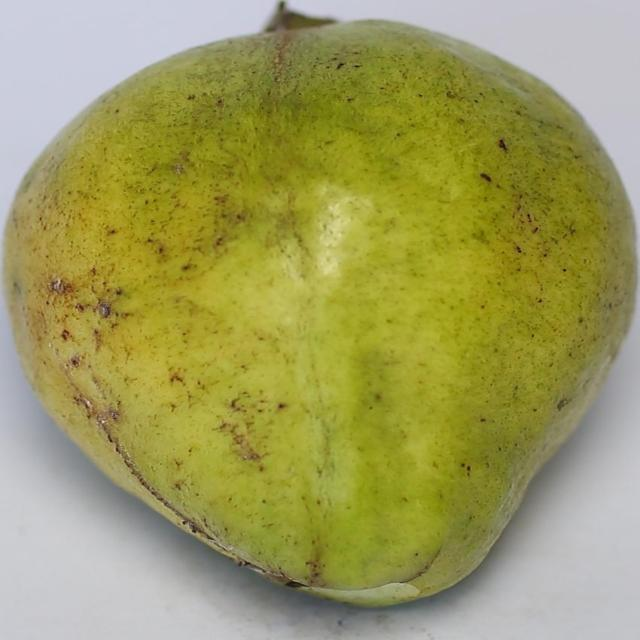Good_Guava: (1, 16, 640, 611)
